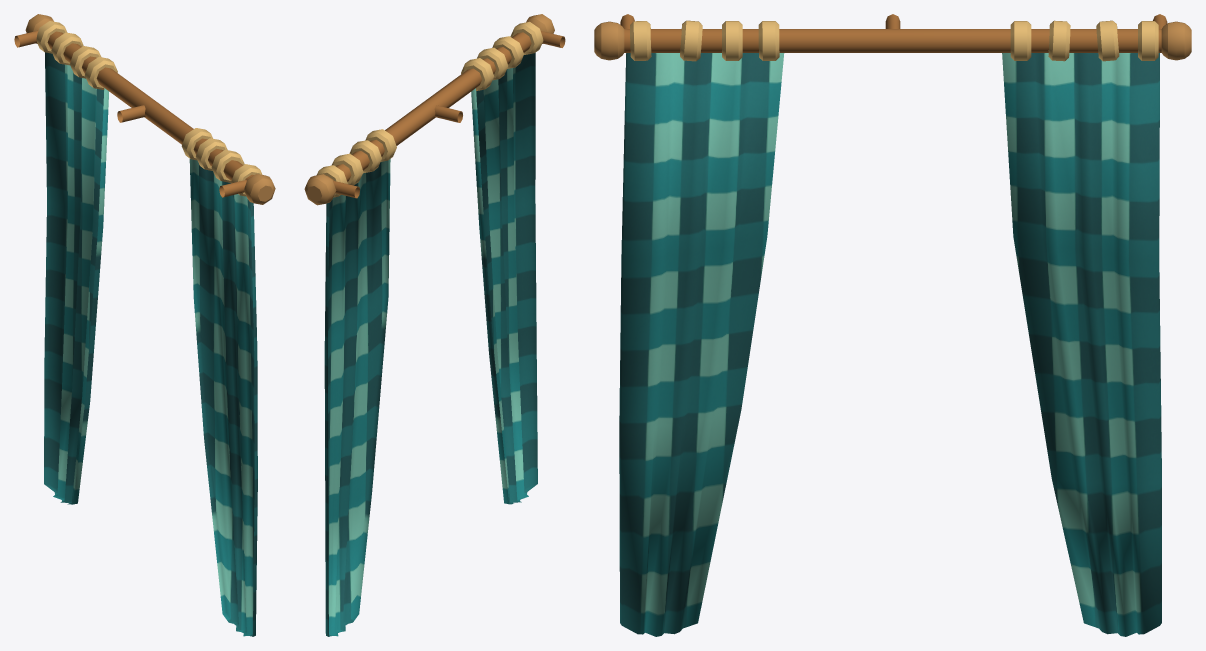
The model's file is Curtains_Long_1_C_D.glb.
The picture shows the model from 3 angles, left to right: view 1: azimuth 30°, elevation 25°; view 2: azimuth 150°, elevation 25°; view 3: azimuth 270°, elevation 25°; orthographic projection. The views are drawn at different scales.
Parts seen in each view (by area): view 1: Curtains_Long_1_C_D; view 2: Curtains_Long_1_C_D; view 3: Curtains_Long_1_C_D.
Part boxes in pixels (x1=…): Curtains_Long_1_C_D: x1=14, y1=14, x2=275, y2=636; Curtains_Long_1_C_D: x1=304, y1=14, x2=565, y2=636; Curtains_Long_1_C_D: x1=594, y1=14, x2=1191, y2=636.
Size of the model in its own units: 0.2268 by 2.28 by 2.02.
Materials: 2 (2 with a texture image).
